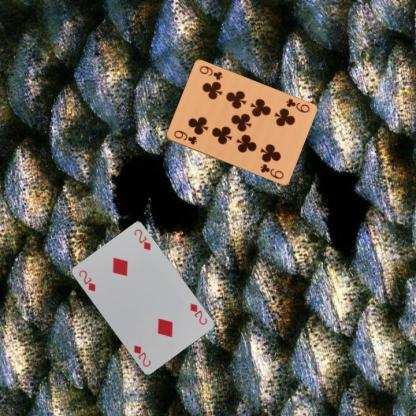2d: (187, 300, 208, 326), (76, 267, 96, 293)
9c: (283, 96, 311, 114), (171, 128, 198, 146)
